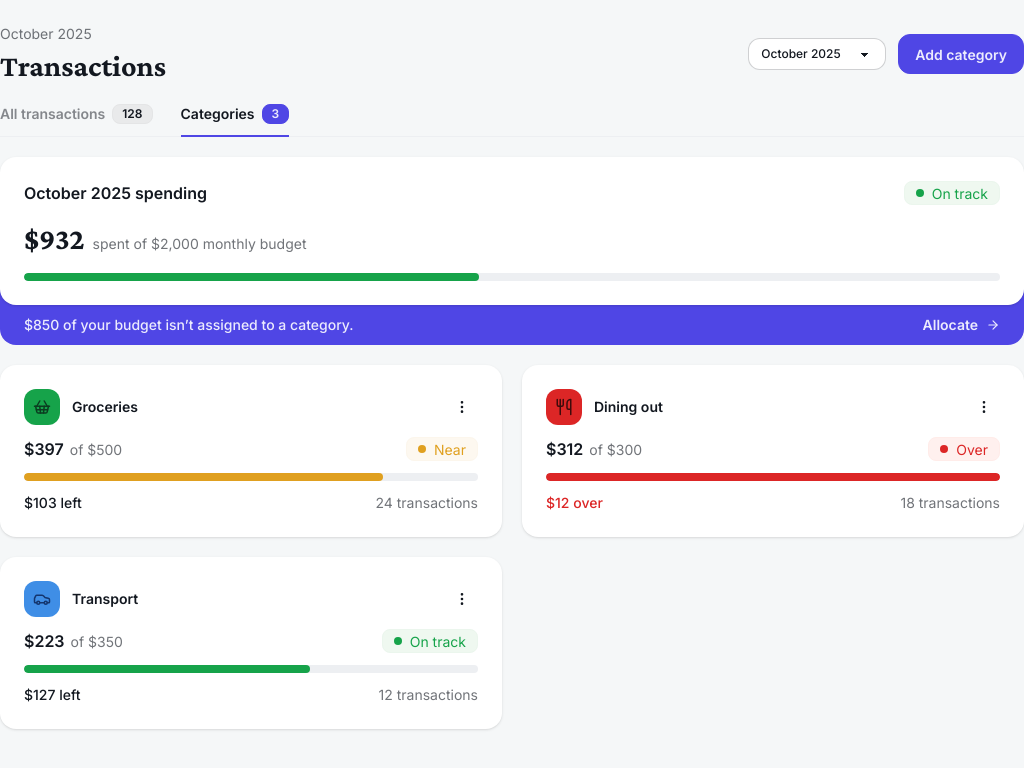
the allocate seam › threads the categories through, so the modal has rows to draw
The image size is (1024, 768).
Click the button "Allocate" at {"x": 961, "y": 325}, box [922, 315, 1000, 335]
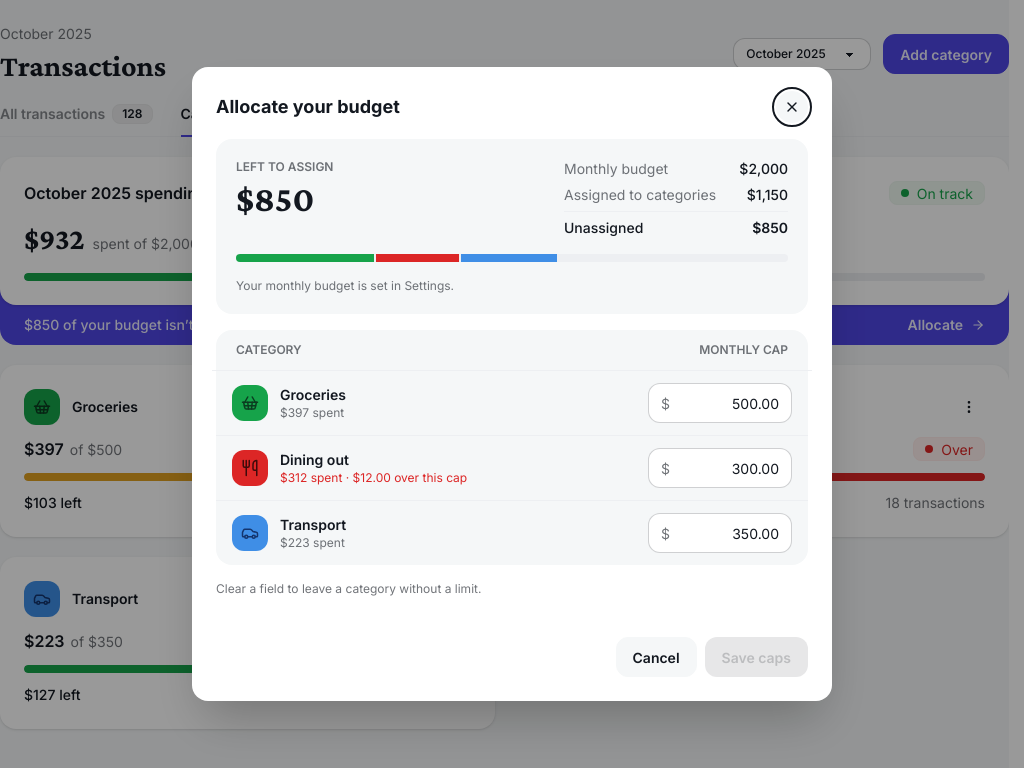
Check: the heading "Allocate your budget" is shown, box [216, 93, 400, 121]
